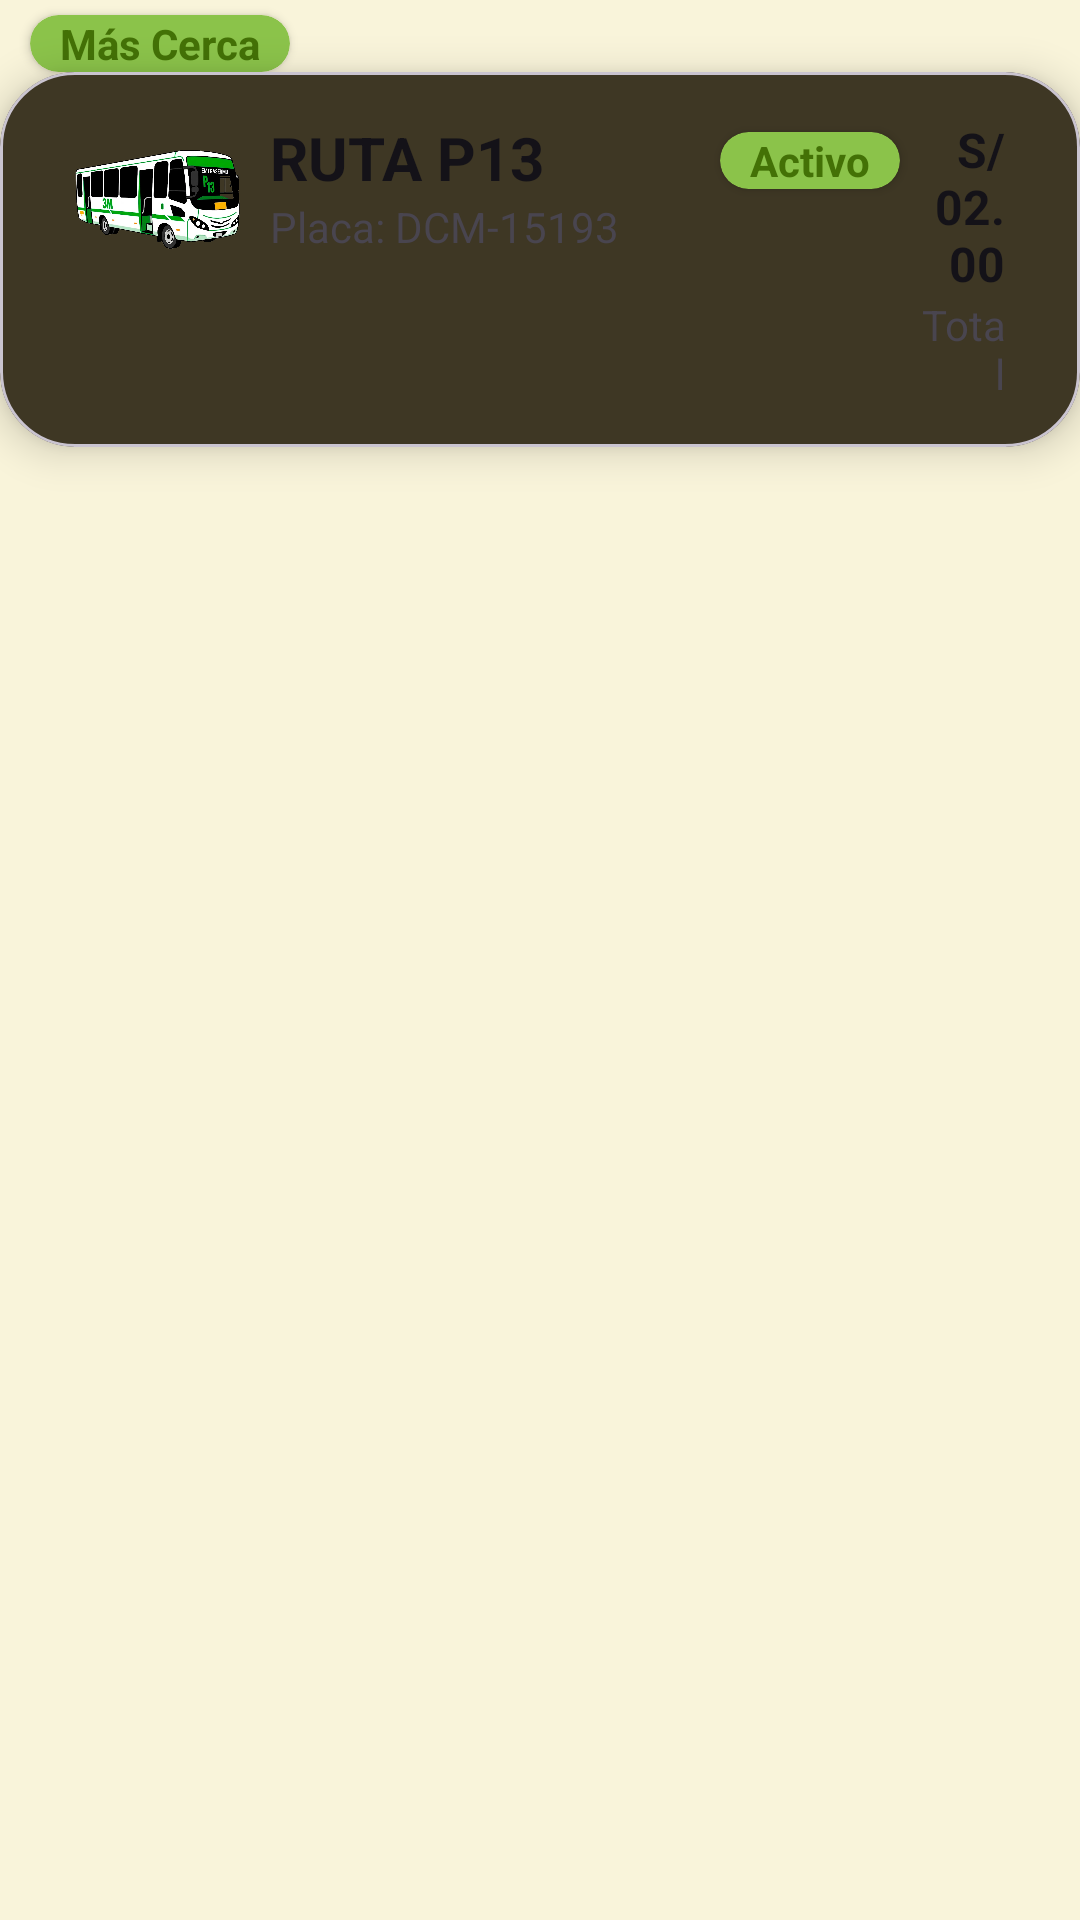

Locate icon controls on the screen. Image size 1080x1920, boxes as box=[x1, y1, x2, y2].
Bus: box=[76, 150, 240, 249]
